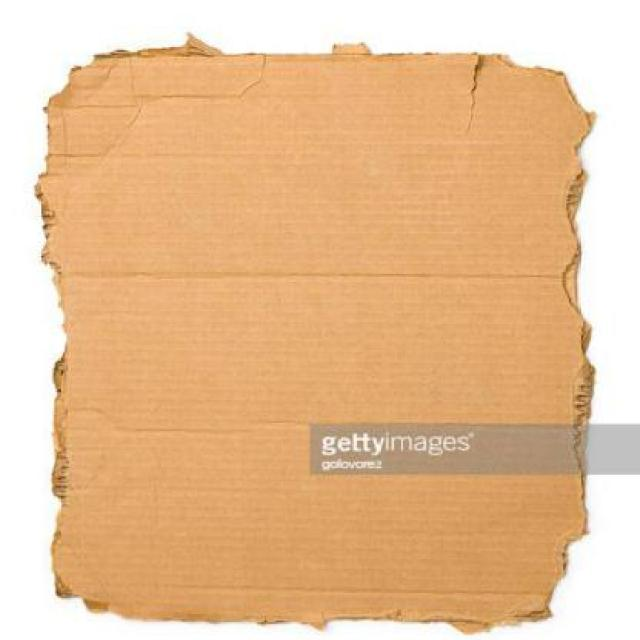box: (34, 21, 606, 640)
